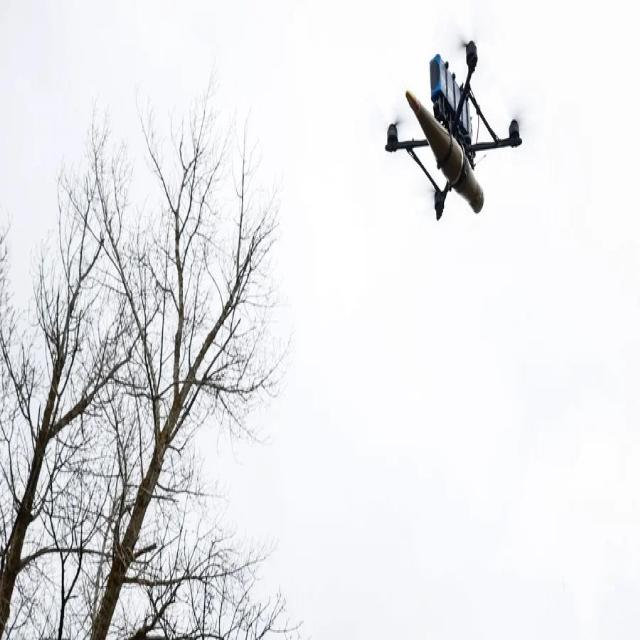drone: (377, 22, 532, 230)
